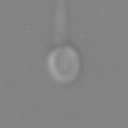normal: (50, 1, 73, 42)
